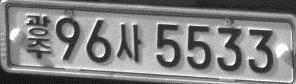3: (216, 27, 242, 71), (248, 29, 274, 73)
5: (155, 22, 181, 67), (186, 25, 212, 70)
6: (85, 19, 111, 63)
9: (55, 17, 80, 60)
광주_V: (25, 14, 51, 58)
사: (115, 23, 141, 63)
